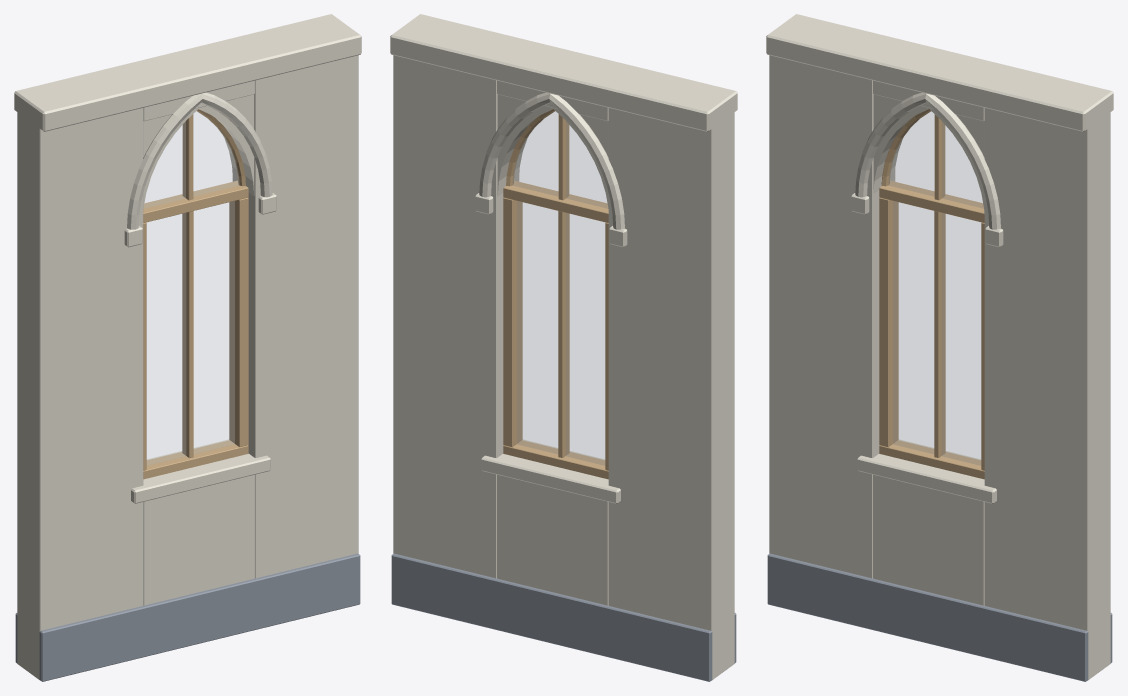
The model's file is wedding-and-chapel-kit-chapel-wall-module-8f8bbbb1__39372.glb.
3 views of the same model, side by side, from view 1: azimuth 30°, elevation 25°; view 2: azimuth 150°, elevation 25°; view 3: azimuth 330°, elevation 25° (orthographic).
Parts seen in each view (by area): view 1: chapel-wall-module; view 2: chapel-wall-module; view 3: chapel-wall-module.
Boxes of the visible parts, x1,y1,x2,y2 form: chapel-wall-module: (14,14,361,681); chapel-wall-module: (390,14,737,681); chapel-wall-module: (766,14,1113,681).
Size of the model in its own units: 2 by 3.42 by 0.3298.
